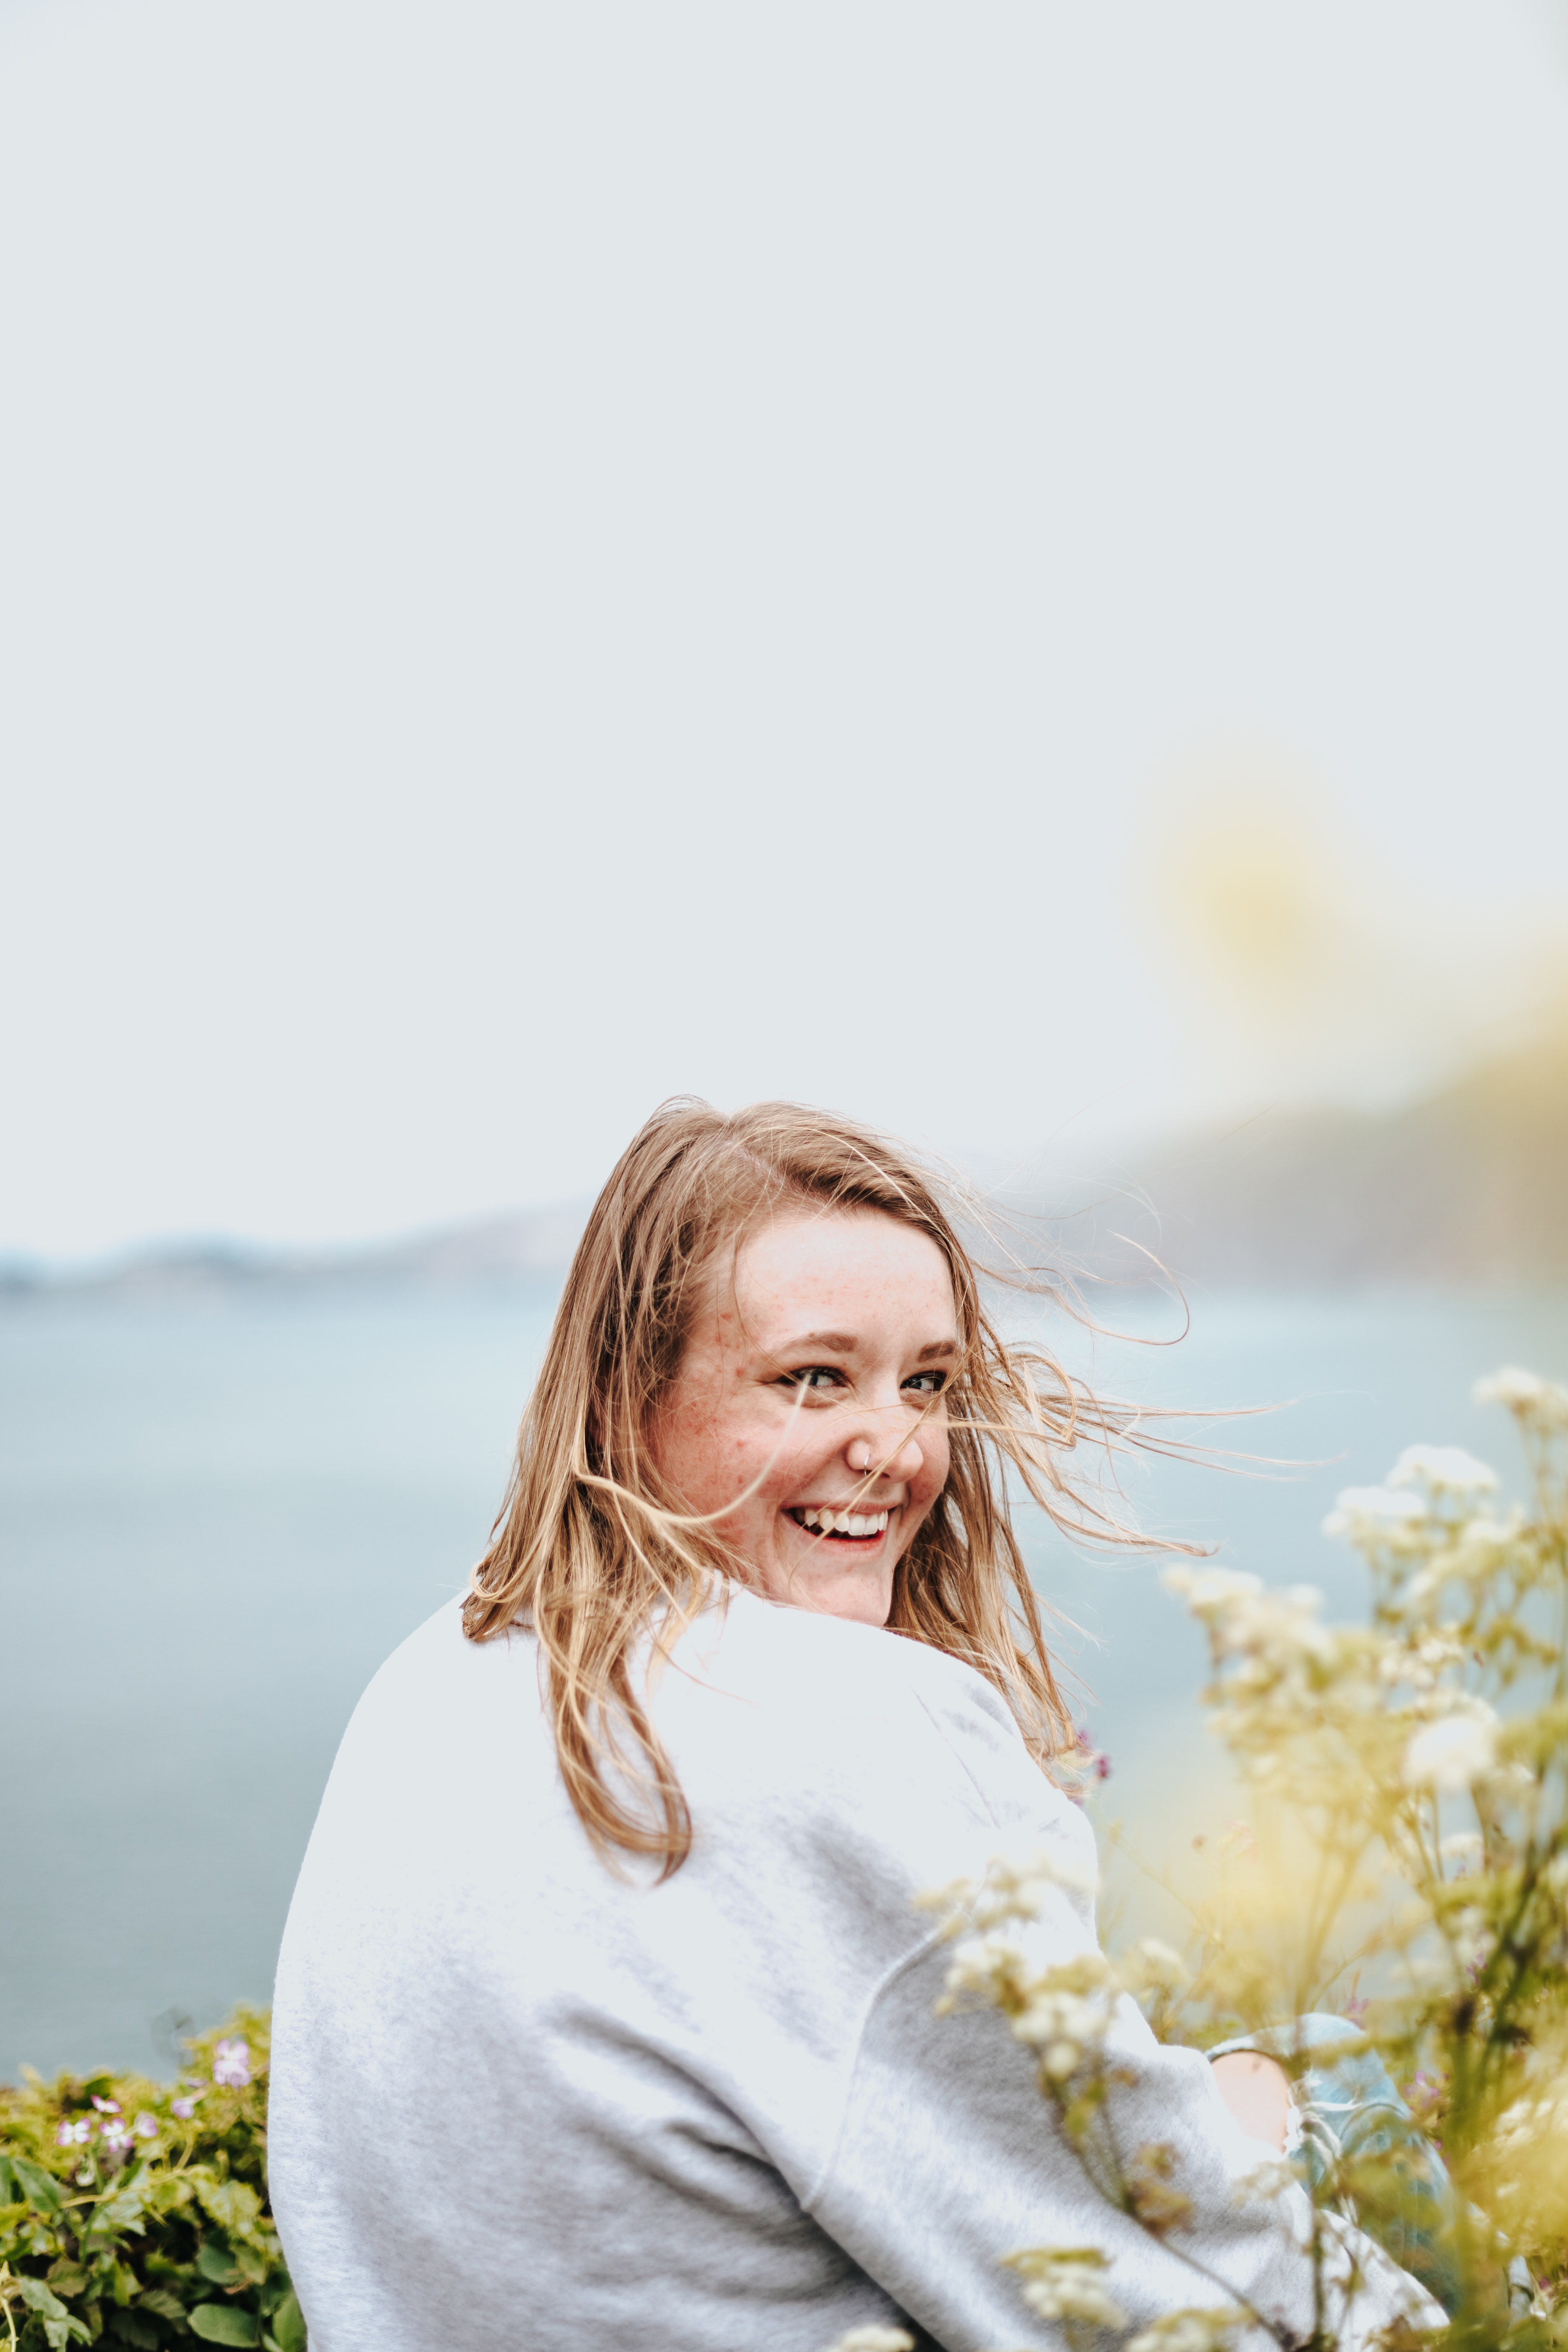face: (582, 1102, 984, 1624)
